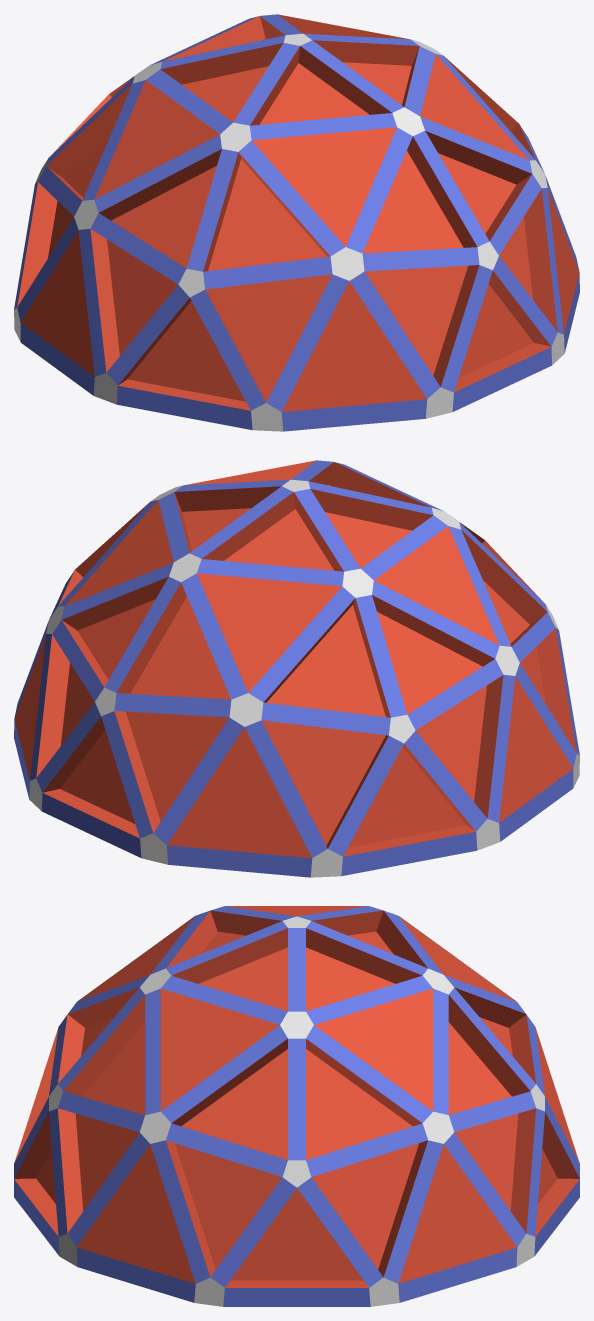
Rendered from moonBaseSingle.fbx.
The picture shows the model from 3 angles, top to bottom: view 1: azimuth 30°, elevation 25°; view 2: azimuth 150°, elevation 25°; view 3: azimuth 270°, elevation 25°; orthographic projection.
Parts seen in each view (by area): view 1: Icosphere; view 2: Icosphere; view 3: Icosphere.
Boxes of the visible parts, box(x1,y1,x2,y2) form: Icosphere: box(14, 14, 579, 431); Icosphere: box(14, 460, 579, 877); Icosphere: box(14, 906, 579, 1306).
Bounding box in the file's own units: 947 × 512 × 978.
